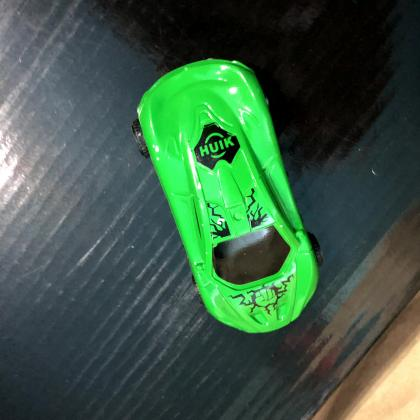Car: (132, 56, 324, 336)
